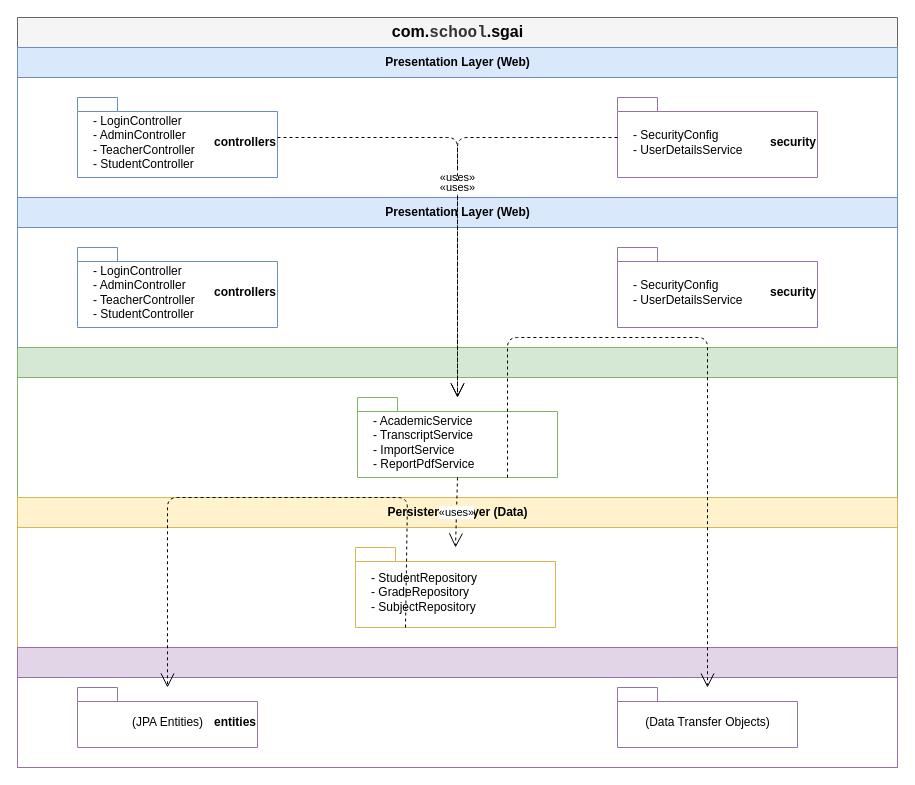
The diagram is 915 pixels wide and 785 high, and some of its shapes have lost their labels. Each missing label, with the box of its shape:
Business Layer (Logic): (16, 346, 898, 498)
Cross-Cutting Objects (Domain): (16, 646, 898, 768)
dto: (616, 686, 798, 748)
repositories: (354, 546, 556, 628)
services: (356, 396, 558, 478)
